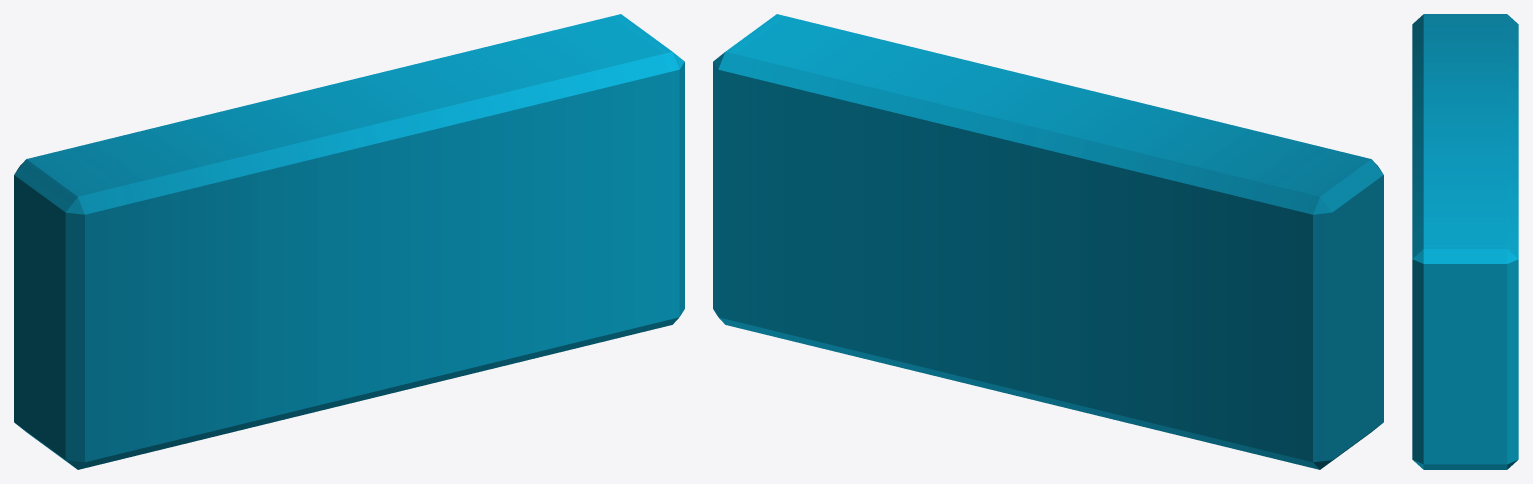
Rendered from Bullet_Сaliber_03.fbx.
3 views of the same model, side by side, from view 1: azimuth 30°, elevation 25°; view 2: azimuth 150°, elevation 25°; view 3: azimuth 270°, elevation 25° (orthographic). The views are drawn at different scales.
Parts seen in each view (by area): view 1: Bullet_Сaliber_03; view 2: Bullet_Сaliber_03; view 3: Bullet_Сaliber_03.
Boxes of the visible parts, <box> form: Bullet_Сaliber_03: <box>14,14,684,469</box>; Bullet_Сaliber_03: <box>713,14,1383,469</box>; Bullet_Сaliber_03: <box>1412,14,1518,469</box>.
Bounding box in the file's own units: 14.01 × 5.91 × 2.57.
